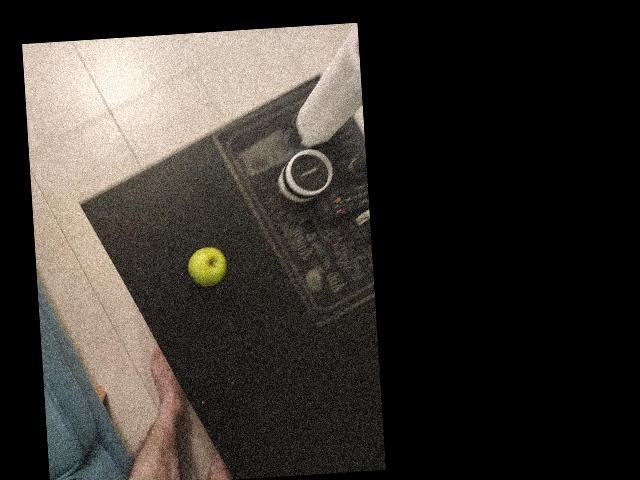apple: (98, 181, 159, 244)
